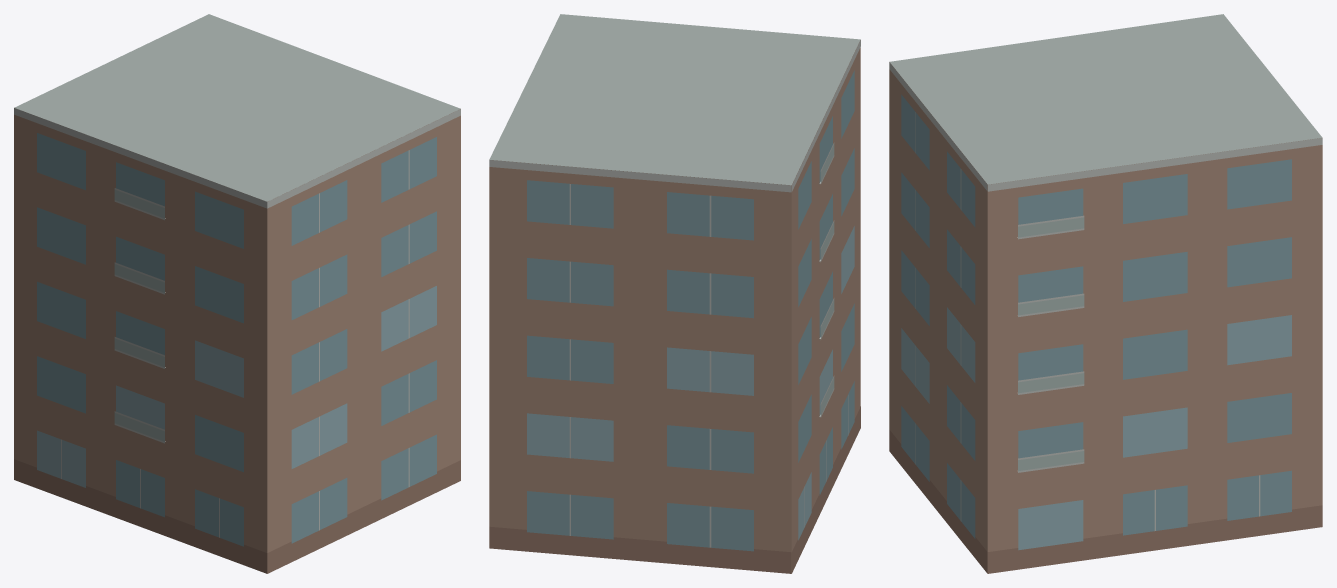
Rendered from survey-upis-32598600.glb.
3 renders of one model, left to right at view 1: azimuth 30°, elevation 25°; view 2: azimuth 150°, elevation 25°; view 3: azimuth 270°, elevation 25°, orthographic. The views are drawn at different scales.
Parts seen in each view (by area): view 1: survey-upis-32598600.tmp; view 2: survey-upis-32598600.tmp; view 3: survey-upis-32598600.tmp.
Boxes of the visible parts, x1,y1,x2,y2 form: survey-upis-32598600.tmp: [14, 14, 460, 573]; survey-upis-32598600.tmp: [489, 14, 860, 573]; survey-upis-32598600.tmp: [889, 14, 1322, 573].
Bounding box in the file's own units: 12.51 × 13.3 × 13.42.
